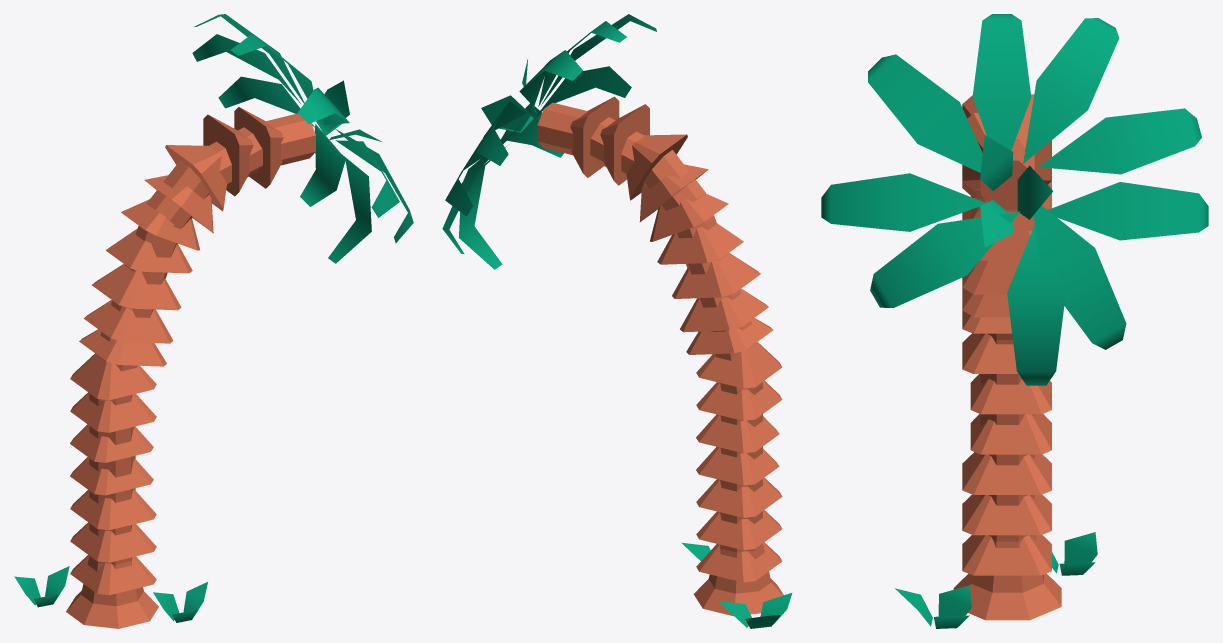
Rendered from PalmB.fbx.
3 renders of one model, left to right at view 1: azimuth 30°, elevation 25°; view 2: azimuth 150°, elevation 25°; view 3: azimuth 270°, elevation 25°, orthographic. The views are drawn at different scales.
Parts seen in each view (by area): view 1: pyramid_bevel (×16), plant_largeLeaf (×9), trunk (×5), trunk_base, plant_small (×3), trunk_skewLarge; view 2: pyramid_bevel (×16), plant_largeLeaf (×9), trunk (×4), trunk_base, plant_small (×2), trunk_skewLarge; view 3: plant_largeLeaf (×9), pyramid_bevel (×11), plant_small (×3), trunk_base, trunk (×3).
Part boxes in pixels (x1,y1,x2,y2): pyramid_bevel (×16): (70,107,283,595); plant_largeLeaf (×9): (192,14,413,263); trunk (×5): (89,113,315,503); trunk_base: (66,556,158,628); plant_small (×3): (14,80,381,622); trunk_skewLarge: (125,225,178,284); pyramid_bevel (×16): (570,96,782,582); plant_largeLeaf (×9): (442,14,656,269); trunk (×4): (537,102,762,491); trunk_base: (693,544,783,616); plant_small (×2): (481,59,792,628); trunk_skewLarge: (677,215,727,274); plant_largeLeaf (×9): (821,14,1208,385); pyramid_bevel (×11): (962,113,1051,575); plant_small (×3): (895,135,1097,628); trunk_base: (953,535,1061,620); trunk (×3): (980,139,1034,541).
Bounding box in the file's own units: 31.64 × 49.59 × 26.14.
